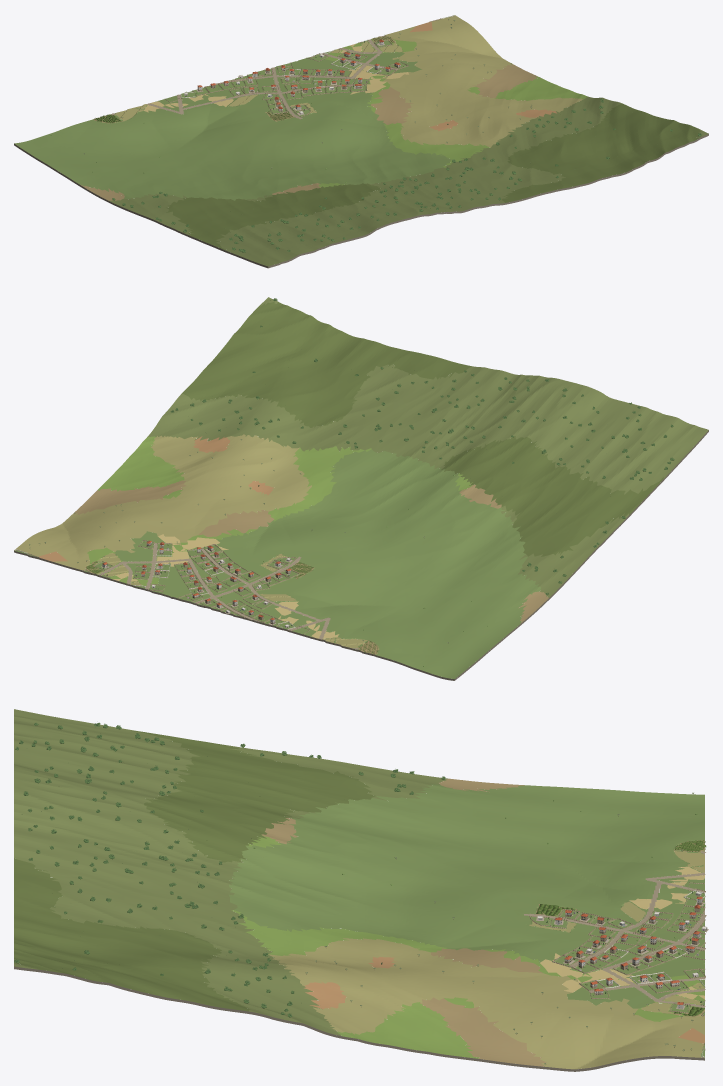
The model's file is parca_+6_-3-yakin.glb.
The picture shows the model from 3 angles, top to bottom: view 1: azimuth 30°, elevation 25°; view 2: azimuth 150°, elevation 25°; view 3: azimuth 270°, elevation 25°; orthographic projection. The views are drawn at different scales.
Visible parts, largest first — view 1: parca_+6_-3_arazi, parca_+6_-3_bitkiler, parca_+6_-3_duvarlar, parca_+6_-3_yapilar, parca_+6_-3_yollar; view 2: parca_+6_-3_arazi, parca_+6_-3_bitkiler, parca_+6_-3_duvarlar, parca_+6_-3_yapilar, parca_+6_-3_yollar; view 3: parca_+6_-3_arazi, parca_+6_-3_bitkiler, parca_+6_-3_duvarlar, parca_+6_-3_yapilar, parca_+6_-3_yollar, parca_+6_-3_asma.
Boxes of the visible parts, x1,y1,x2,y2 form: parca_+6_-3_arazi: (14,15,708,268); parca_+6_-3_bitkiler: (18,19,702,252); parca_+6_-3_duvarlar: (165,15,454,117); parca_+6_-3_yapilar: (184,39,400,115); parca_+6_-3_yollar: (112,39,396,118); parca_+6_-3_arazi: (14,297,708,680); parca_+6_-3_bitkiler: (29,298,693,674); parca_+6_-3_duvarlar: (14,540,309,634); parca_+6_-3_yapilar: (101,540,292,627); parca_+6_-3_yollar: (99,544,356,649); parca_+6_-3_arazi: (14,709,704,1071); parca_+6_-3_bitkiler: (14,717,705,1064); parca_+6_-3_duvarlar: (529,882,705,1058); parca_+6_-3_yapilar: (536,891,708,1009); parca_+6_-3_yollar: (526,851,706,1007); parca_+6_-3_asma: (536,840,706,1016).
Bounding box in the file's own units: 1002 × 202 × 1006.
